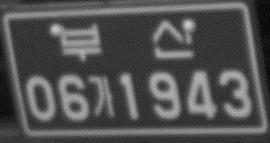0: (25, 73, 58, 125)
1: (119, 71, 139, 121)
3: (217, 65, 255, 120)
4: (183, 68, 219, 120)
6: (56, 72, 91, 123)
9: (147, 69, 182, 121)
가: (91, 73, 117, 121)
부산_D: (56, 17, 195, 63)
